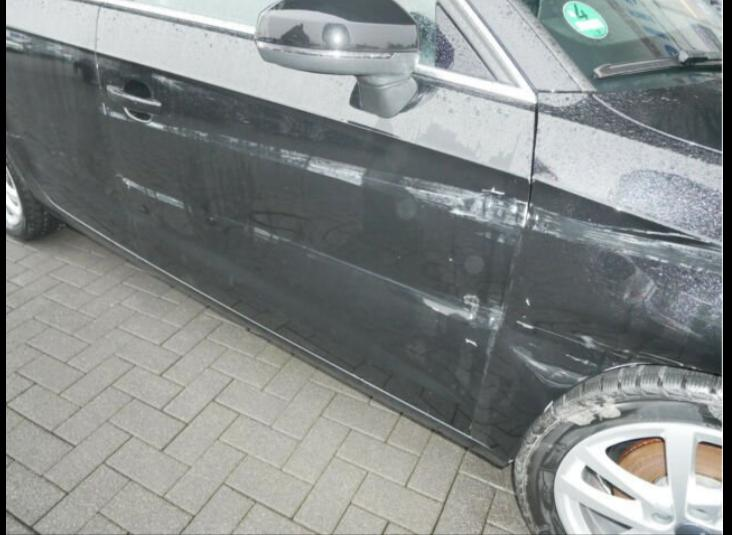Back-door: (6, 1, 133, 253)
Back-wheel: (5, 155, 56, 244)
Fender: (470, 91, 722, 461)
Front-door: (95, 0, 535, 433)
Front-wheel: (512, 365, 723, 534)
Front-window: (134, 0, 438, 64)
Hood: (594, 74, 721, 154)
Mirror: (254, 0, 419, 119)
Rocker-panel: (36, 198, 510, 471)
Windshield: (526, 0, 722, 90)
